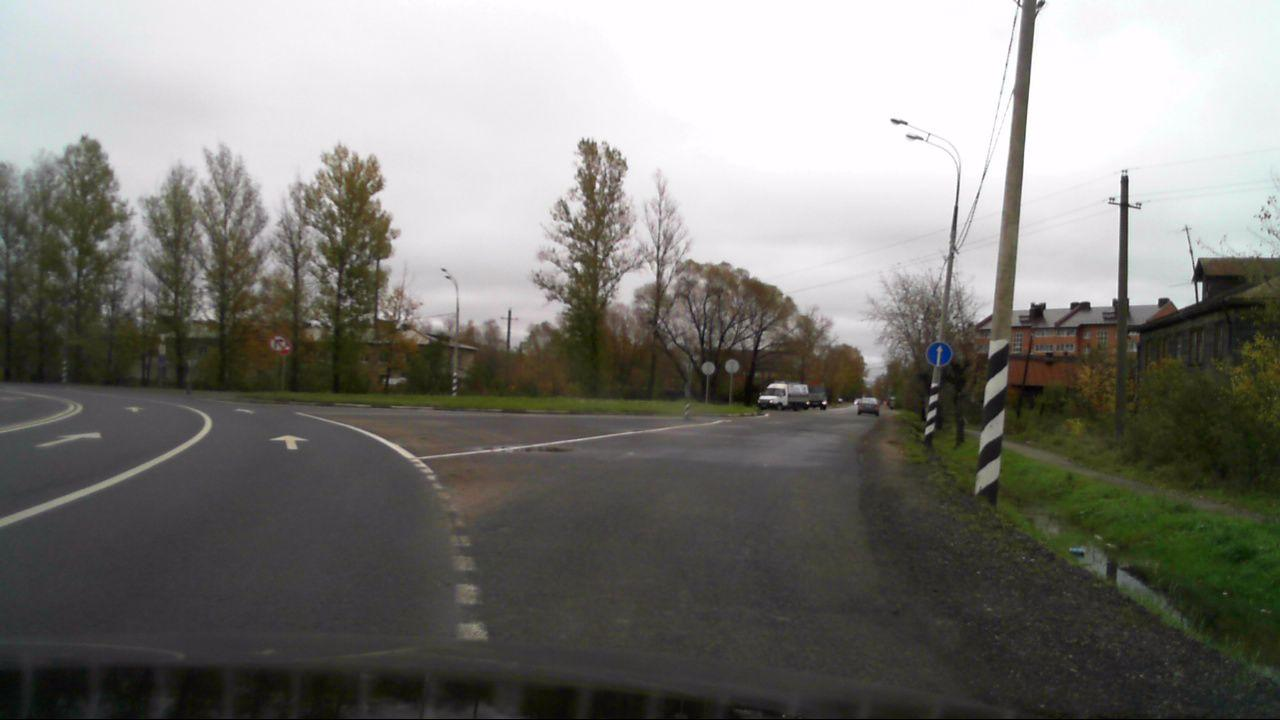3_18_1: (269, 334, 287, 351)
4_1_1: (925, 338, 952, 367)
